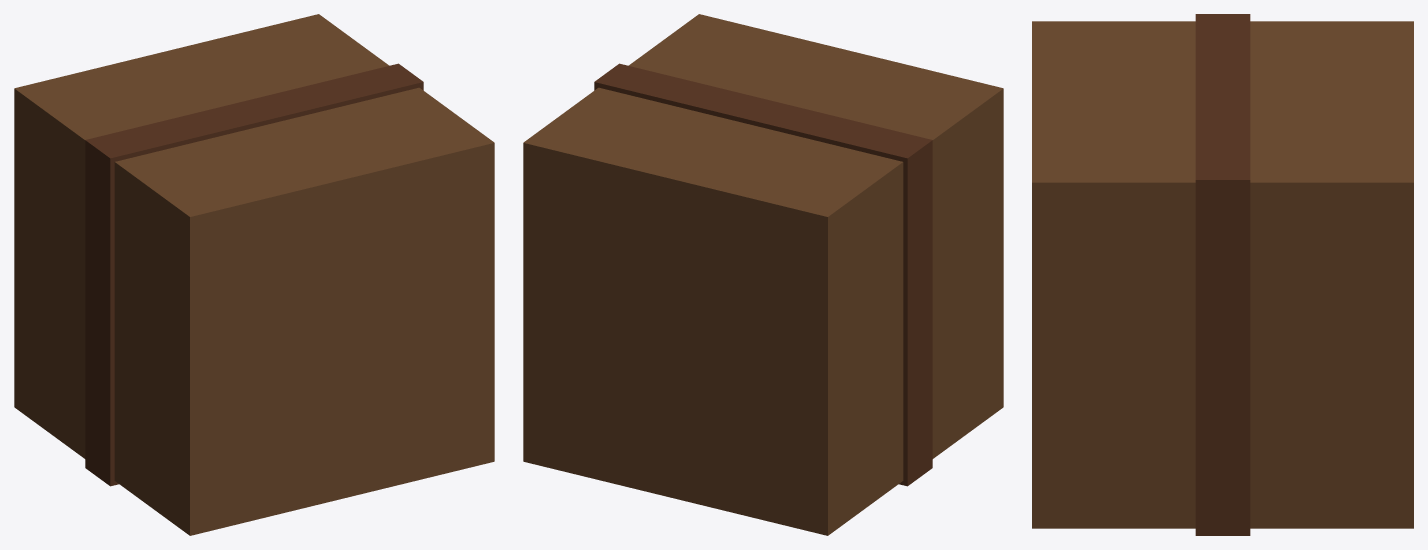
Rendered from crate.glb.
3 views of the same model, side by side, from view 1: azimuth 30°, elevation 25°; view 2: azimuth 150°, elevation 25°; view 3: azimuth 270°, elevation 25° (orthographic). The views are drawn at different scales.
Parts seen in each view (by area): view 1: crate; view 2: crate; view 3: crate.
Boxes of the visible parts, x1,y1,x2,y2 form: crate: (14, 14, 494, 535); crate: (523, 14, 1003, 535); crate: (1032, 14, 1413, 535).
Bounding box in the file's own units: 0.72 × 0.72 × 0.7.
